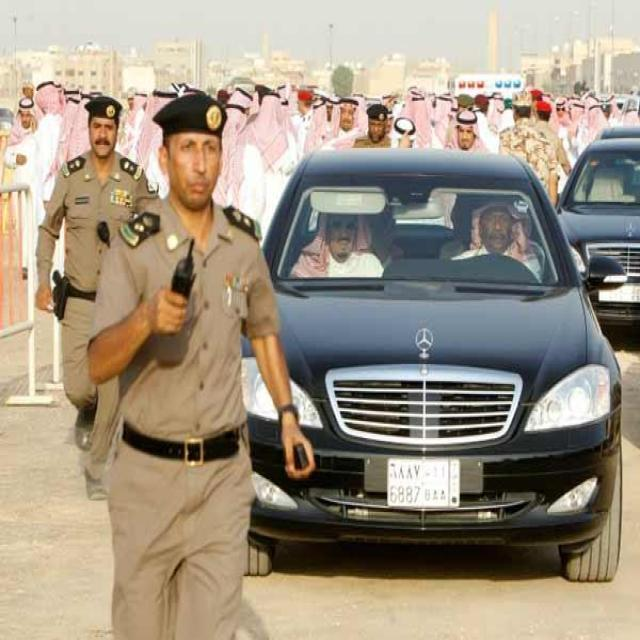license_plate: (380, 447, 462, 512)
